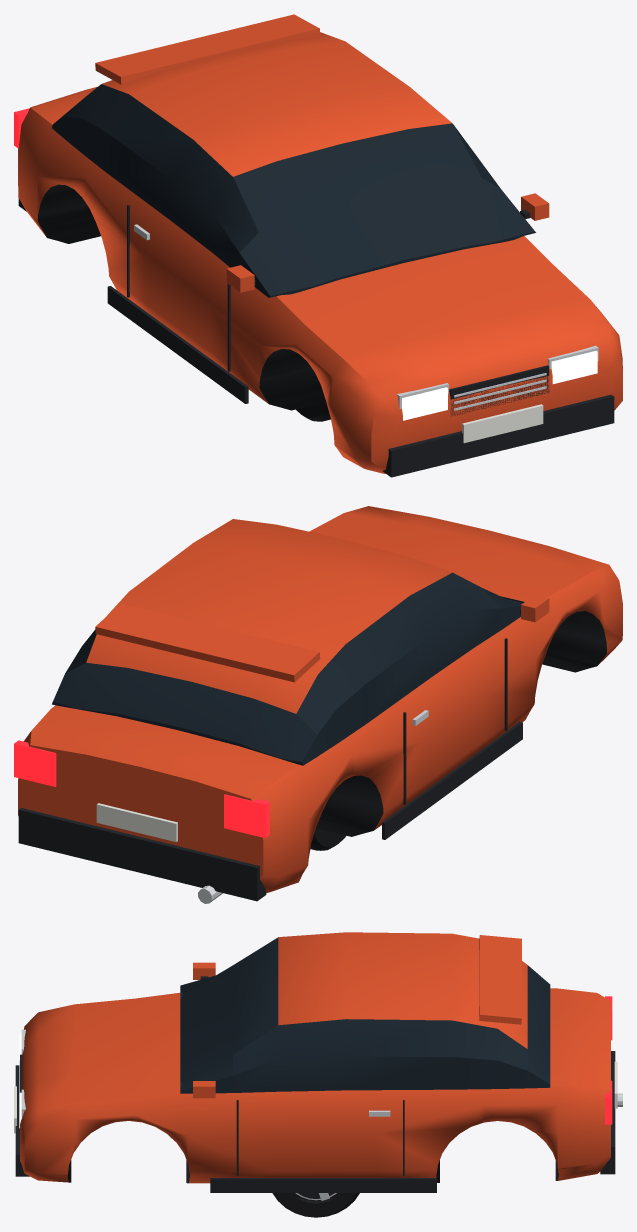
File: starter.glb
The picture shows the model from 3 angles, top to bottom: view 1: azimuth 30°, elevation 25°; view 2: azimuth 150°, elevation 25°; view 3: azimuth 270°, elevation 25°; orthographic projection. The views are drawn at different scales.
Parts seen in each view (by area): view 1: body; view 2: body, wheel; view 3: body, wheel.
Part boxes in pixels (bbox=[...]): body: bbox=[14, 14, 622, 477]; body: bbox=[14, 506, 622, 903]; wheel: bbox=[310, 828, 346, 850]; body: bbox=[14, 932, 622, 1192]; wheel: bbox=[272, 1193, 359, 1217].
Bounding box in the file's own units: 1.94 × 1.77 × 4.03.
